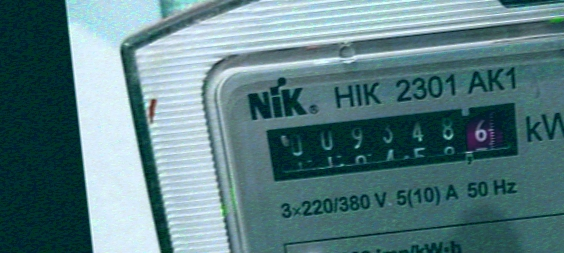0: (317, 128, 335, 152), (288, 131, 303, 159)
3: (378, 120, 395, 148)
4: (408, 117, 425, 145)
6: (470, 117, 490, 146)
8: (438, 115, 456, 144)
9: (347, 125, 365, 152)
screen: (255, 95, 530, 193)
